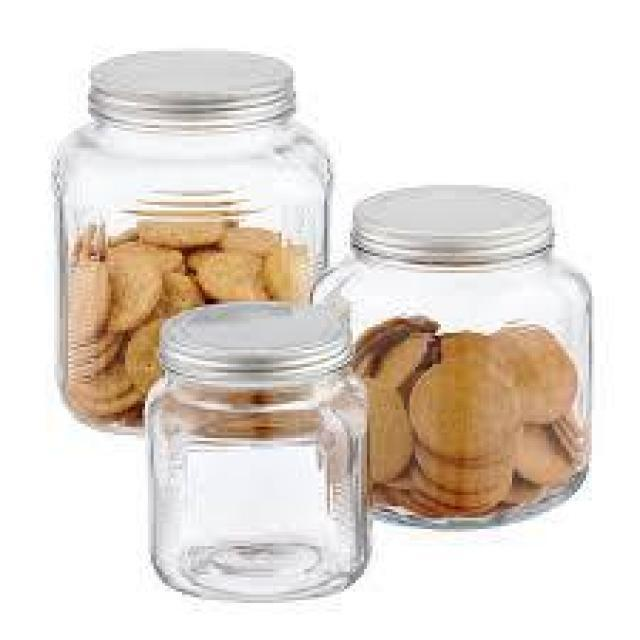glass: (144, 302, 377, 608)
